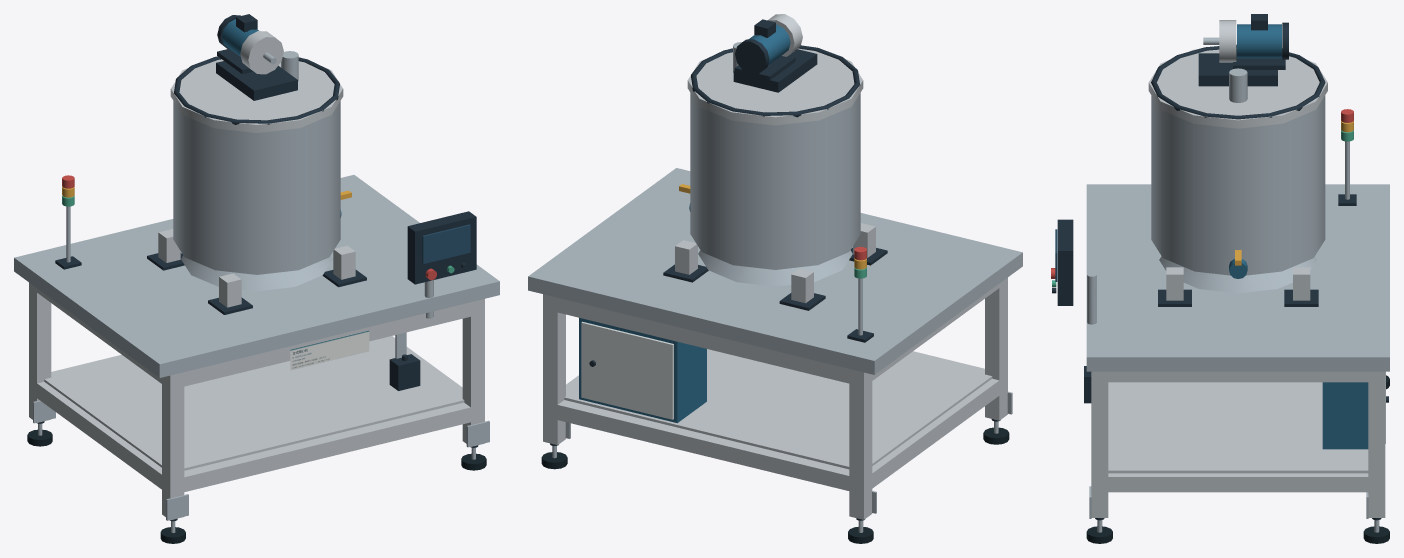
Rendered from centrifuge-cell.glb.
3 views of the same model, side by side, from view 1: azimuth 30°, elevation 25°; view 2: azimuth 150°, elevation 25°; view 3: azimuth 270°, elevation 25° (orthographic). The views are drawn at different scales.
Parts seen in each view (by area): view 1: ClosedMachineBed_28, LowerShelf_29, VesselBody_56, VesselLid_58, SlottedExtrusion_22, SlottedExtrusion_23, SlottedExtrusion_8, SlottedExtrusion_24, ConsoleBack_34, SlottedExtrusion_18, SlottedExtrusion_3, LowerDishedEnd_57 (+11 smaller); view 2: ClosedMachineBed_28, VesselBody_56, LowerShelf_29, VesselLid_58, BackDoor_31, SlottedExtrusion_20, SlottedExtrusion_21, SlottedExtrusion_3, Cabinet_30, SlottedExtrusion_13, SlottedExtrusion_24, SlottedExtrusion_8 (+10 smaller); view 3: ClosedMachineBed_28, VesselBody_56, LowerShelf_29, VesselLid_58, SlottedExtrusion_26, SlottedExtrusion_27, Cabinet_30, SlottedExtrusion_18, SlottedExtrusion_13, LowerDishedEnd_57, LidGasket_59, AgitatorBridge_75 (+10 smaller).
Part boxes in pixels (box(x1,y1,x2,y2)): ClosedMachineBed_28: box(14, 175, 499, 377); LowerShelf_29: box(44, 337, 464, 470); VesselBody_56: box(173, 101, 340, 274); VesselLid_58: box(170, 57, 343, 132); SlottedExtrusion_22: box(184, 402, 477, 491); SlottedExtrusion_23: box(177, 300, 477, 387); SlottedExtrusion_8: box(162, 372, 184, 520); SlottedExtrusion_24: box(33, 382, 161, 489); ConsoleBack_34: box(407, 211, 476, 284); SlottedExtrusion_18: box(462, 299, 484, 446); SlottedExtrusion_3: box(29, 282, 51, 422); LowerDishedEnd_57: box(181, 255, 332, 291); ClosedMachineBed_28: box(528, 168, 1022, 374); VesselBody_56: box(690, 93, 860, 269); LowerShelf_29: box(564, 349, 992, 469); VesselLid_58: box(687, 48, 863, 125); BackDoor_31: box(581, 321, 673, 419); SlottedExtrusion_20: box(557, 400, 849, 490); SlottedExtrusion_21: box(550, 296, 855, 383); SlottedExtrusion_3: box(849, 369, 872, 519); Cabinet_30: box(579, 317, 706, 423); SlottedExtrusion_13: box(543, 294, 565, 444); SlottedExtrusion_24: box(868, 378, 999, 491); SlottedExtrusion_8: box(985, 277, 1007, 420); ClosedMachineBed_28: box(1086, 184, 1389, 371); VesselBody_56: box(1151, 95, 1325, 275); LowerShelf_29: box(1108, 382, 1368, 473); VesselLid_58: box(1148, 49, 1327, 128); SlottedExtrusion_26: box(1100, 473, 1376, 492); SlottedExtrusion_27: box(1099, 371, 1376, 382); Cabinet_30: box(1322, 382, 1368, 449); SlottedExtrusion_18: box(1091, 371, 1108, 517); SlottedExtrusion_13: box(1368, 371, 1385, 517); LowerDishedEnd_57: box(1159, 256, 1316, 293); LidGasket_59: box(1151, 44, 1325, 119); AgitatorBridge_75: box(1198, 53, 1277, 86).
Bounding box in the file's own units: 1.55 × 1.86 × 1.29.
Materials: 11 (1 with a texture image).
